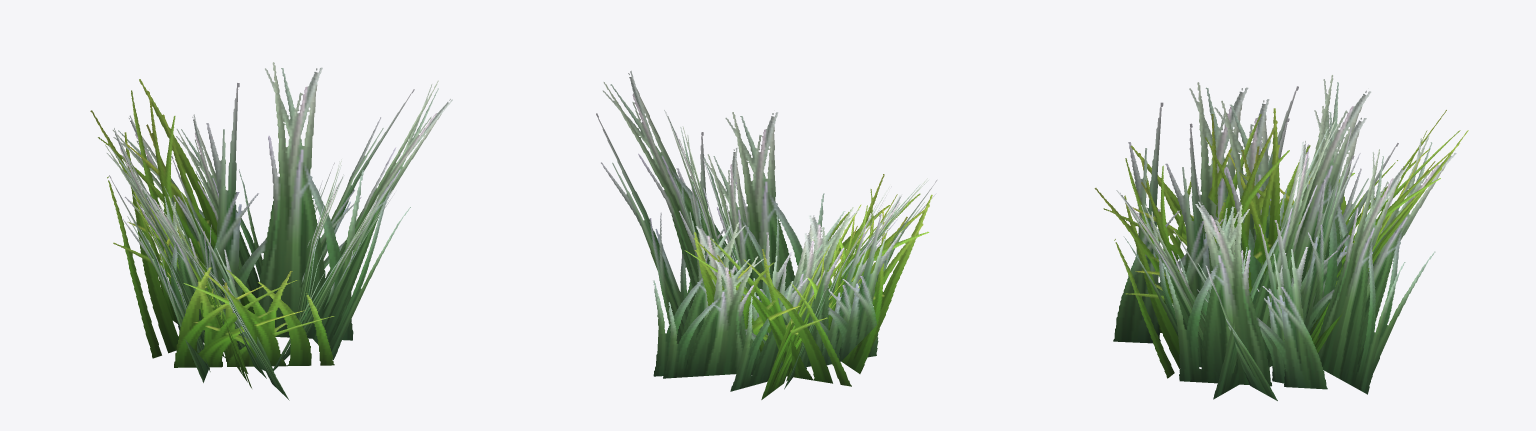
Rendered from Grass_Alpine_A.fbx.
3 views of the same model, side by side, from view 1: azimuth 30°, elevation 25°; view 2: azimuth 150°, elevation 25°; view 3: azimuth 270°, elevation 25° (orthographic). The views are drawn at different scales.
Visible parts, largest first — view 1: Grass_Alpine_A_LOD0; view 2: Grass_Alpine_A_LOD0; view 3: Grass_Alpine_A_LOD0.
Part boxes in pixels (left/top/right/bottom): Grass_Alpine_A_LOD0: left=90, top=62, right=452, bottom=400; Grass_Alpine_A_LOD0: left=596, top=70, right=937, bottom=399; Grass_Alpine_A_LOD0: left=1094, top=75, right=1468, bottom=400.
Size of what is drawn, in the model's own units: 0.5536 by 0.3676 by 0.5535.
